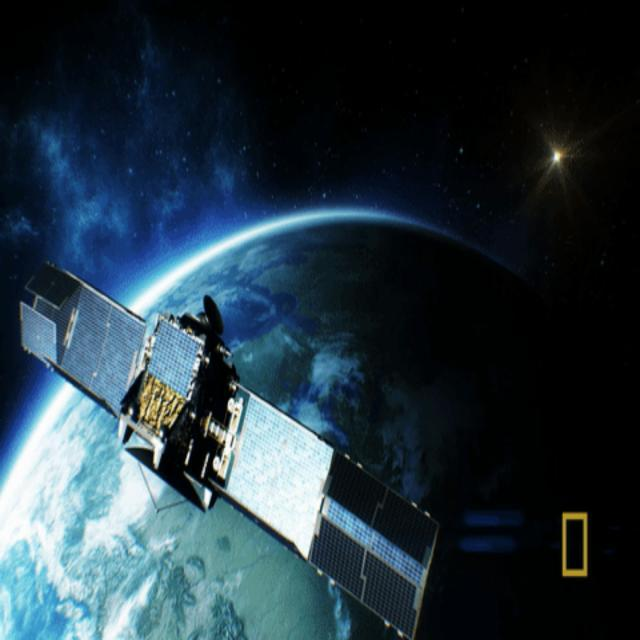sat: (20, 254, 442, 640)
